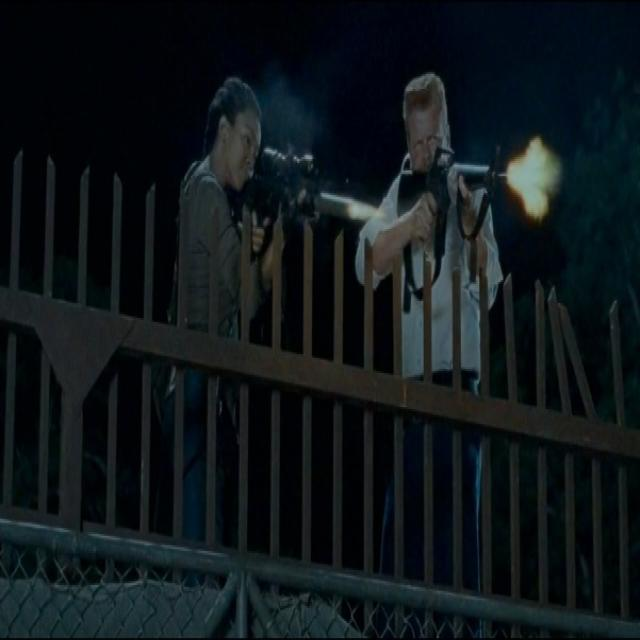rifle: (395, 145, 526, 266), (244, 150, 370, 240)
